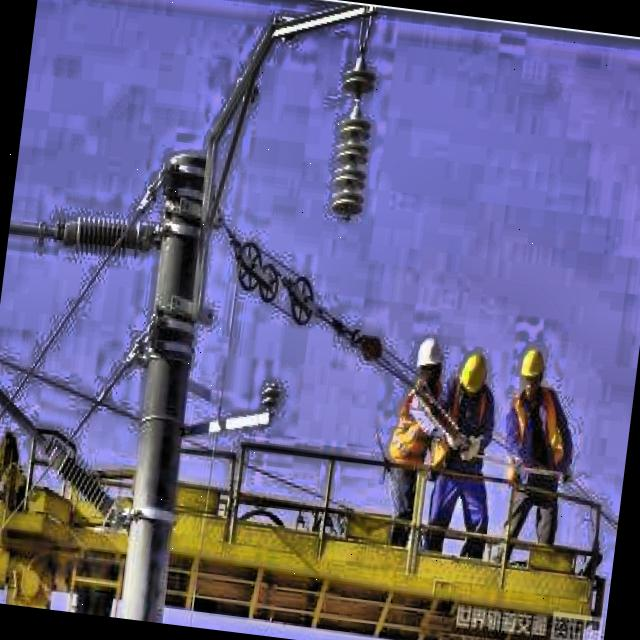helmet: (452, 344, 493, 405), (512, 338, 548, 402), (411, 330, 447, 394)
